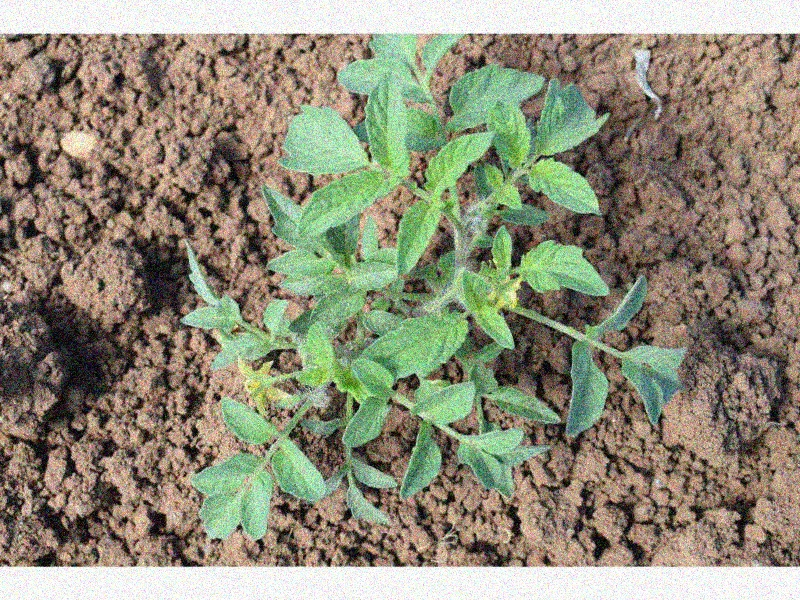tomato: (188, 34, 687, 545)
